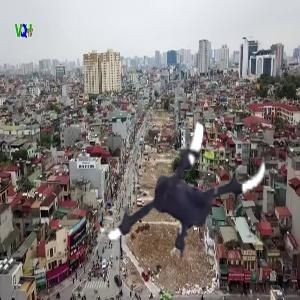drone: (92, 95, 274, 277)
